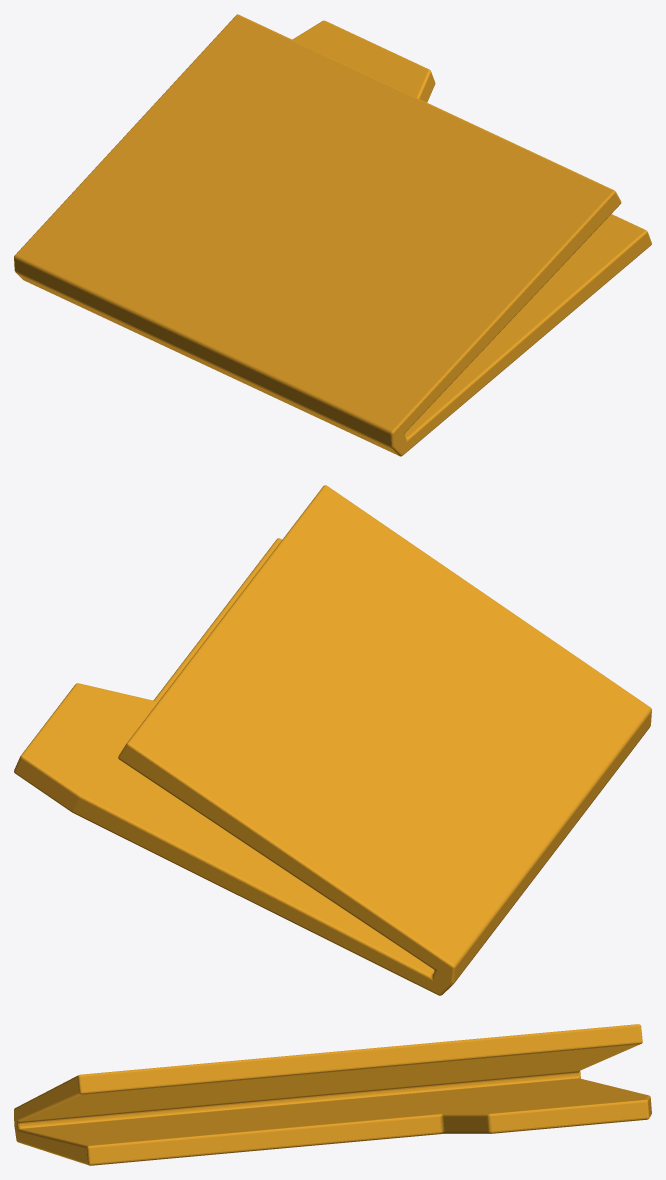
3 renders of one model, top to bottom at view 1: azimuth 30°, elevation 25°; view 2: azimuth 150°, elevation 25°; view 3: azimuth 270°, elevation 25°, orthographic. The views are drawn at different scales.
Visible parts, largest first — view 1: Cube.001; view 2: Cube.001; view 3: Cube.001.
Boxes of the visible parts, x1,y1,x2,y2 form: Cube.001: [14, 14, 651, 456]; Cube.001: [14, 485, 651, 995]; Cube.001: [14, 1024, 651, 1165].
Bounding box in the file's own units: 0.2152 × 0.095 × 0.292.
